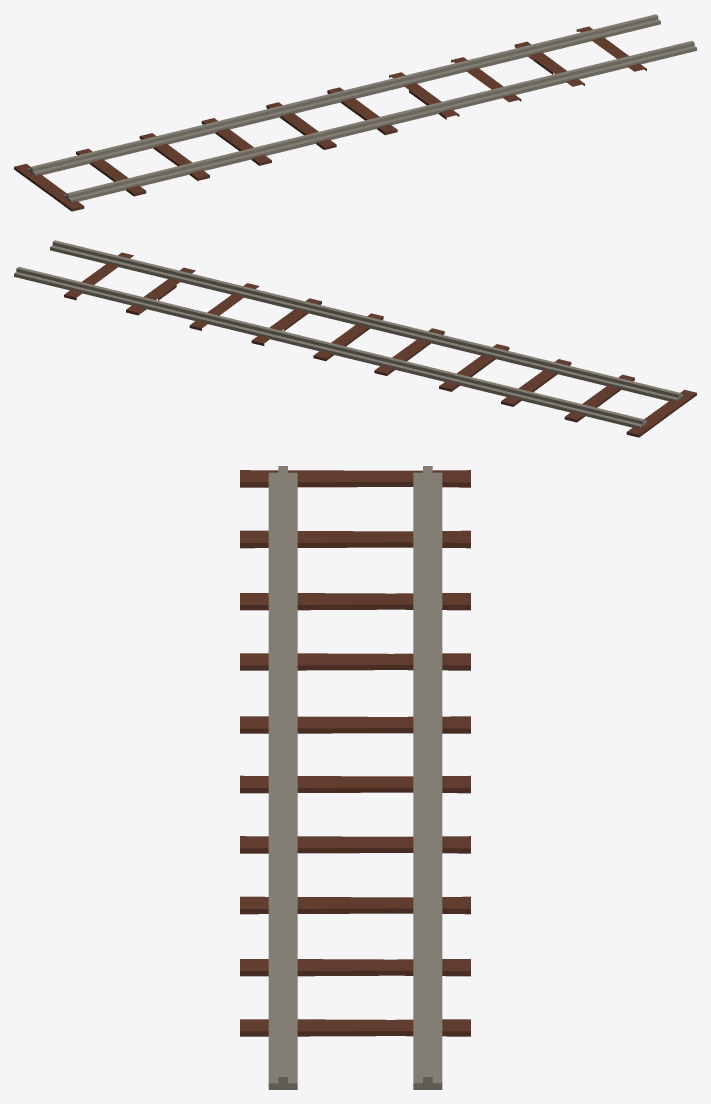
Rendered from Railroad.fbx.
The picture shows the model from 3 angles, top to bottom: view 1: azimuth 30°, elevation 25°; view 2: azimuth 150°, elevation 25°; view 3: azimuth 270°, elevation 25°; orthographic projection. The views are drawn at different scales.
Visible parts, largest first — view 1: Rail; view 2: Rail; view 3: Rail.
Part boxes in pixels (<box>): Rail: <box>14,14,696,211</box>; Rail: <box>14,240,696,437</box>; Rail: <box>240,466,470,1089</box>.
Bounding box in the file's own units: 20.21 × 0.245 × 3.2.
